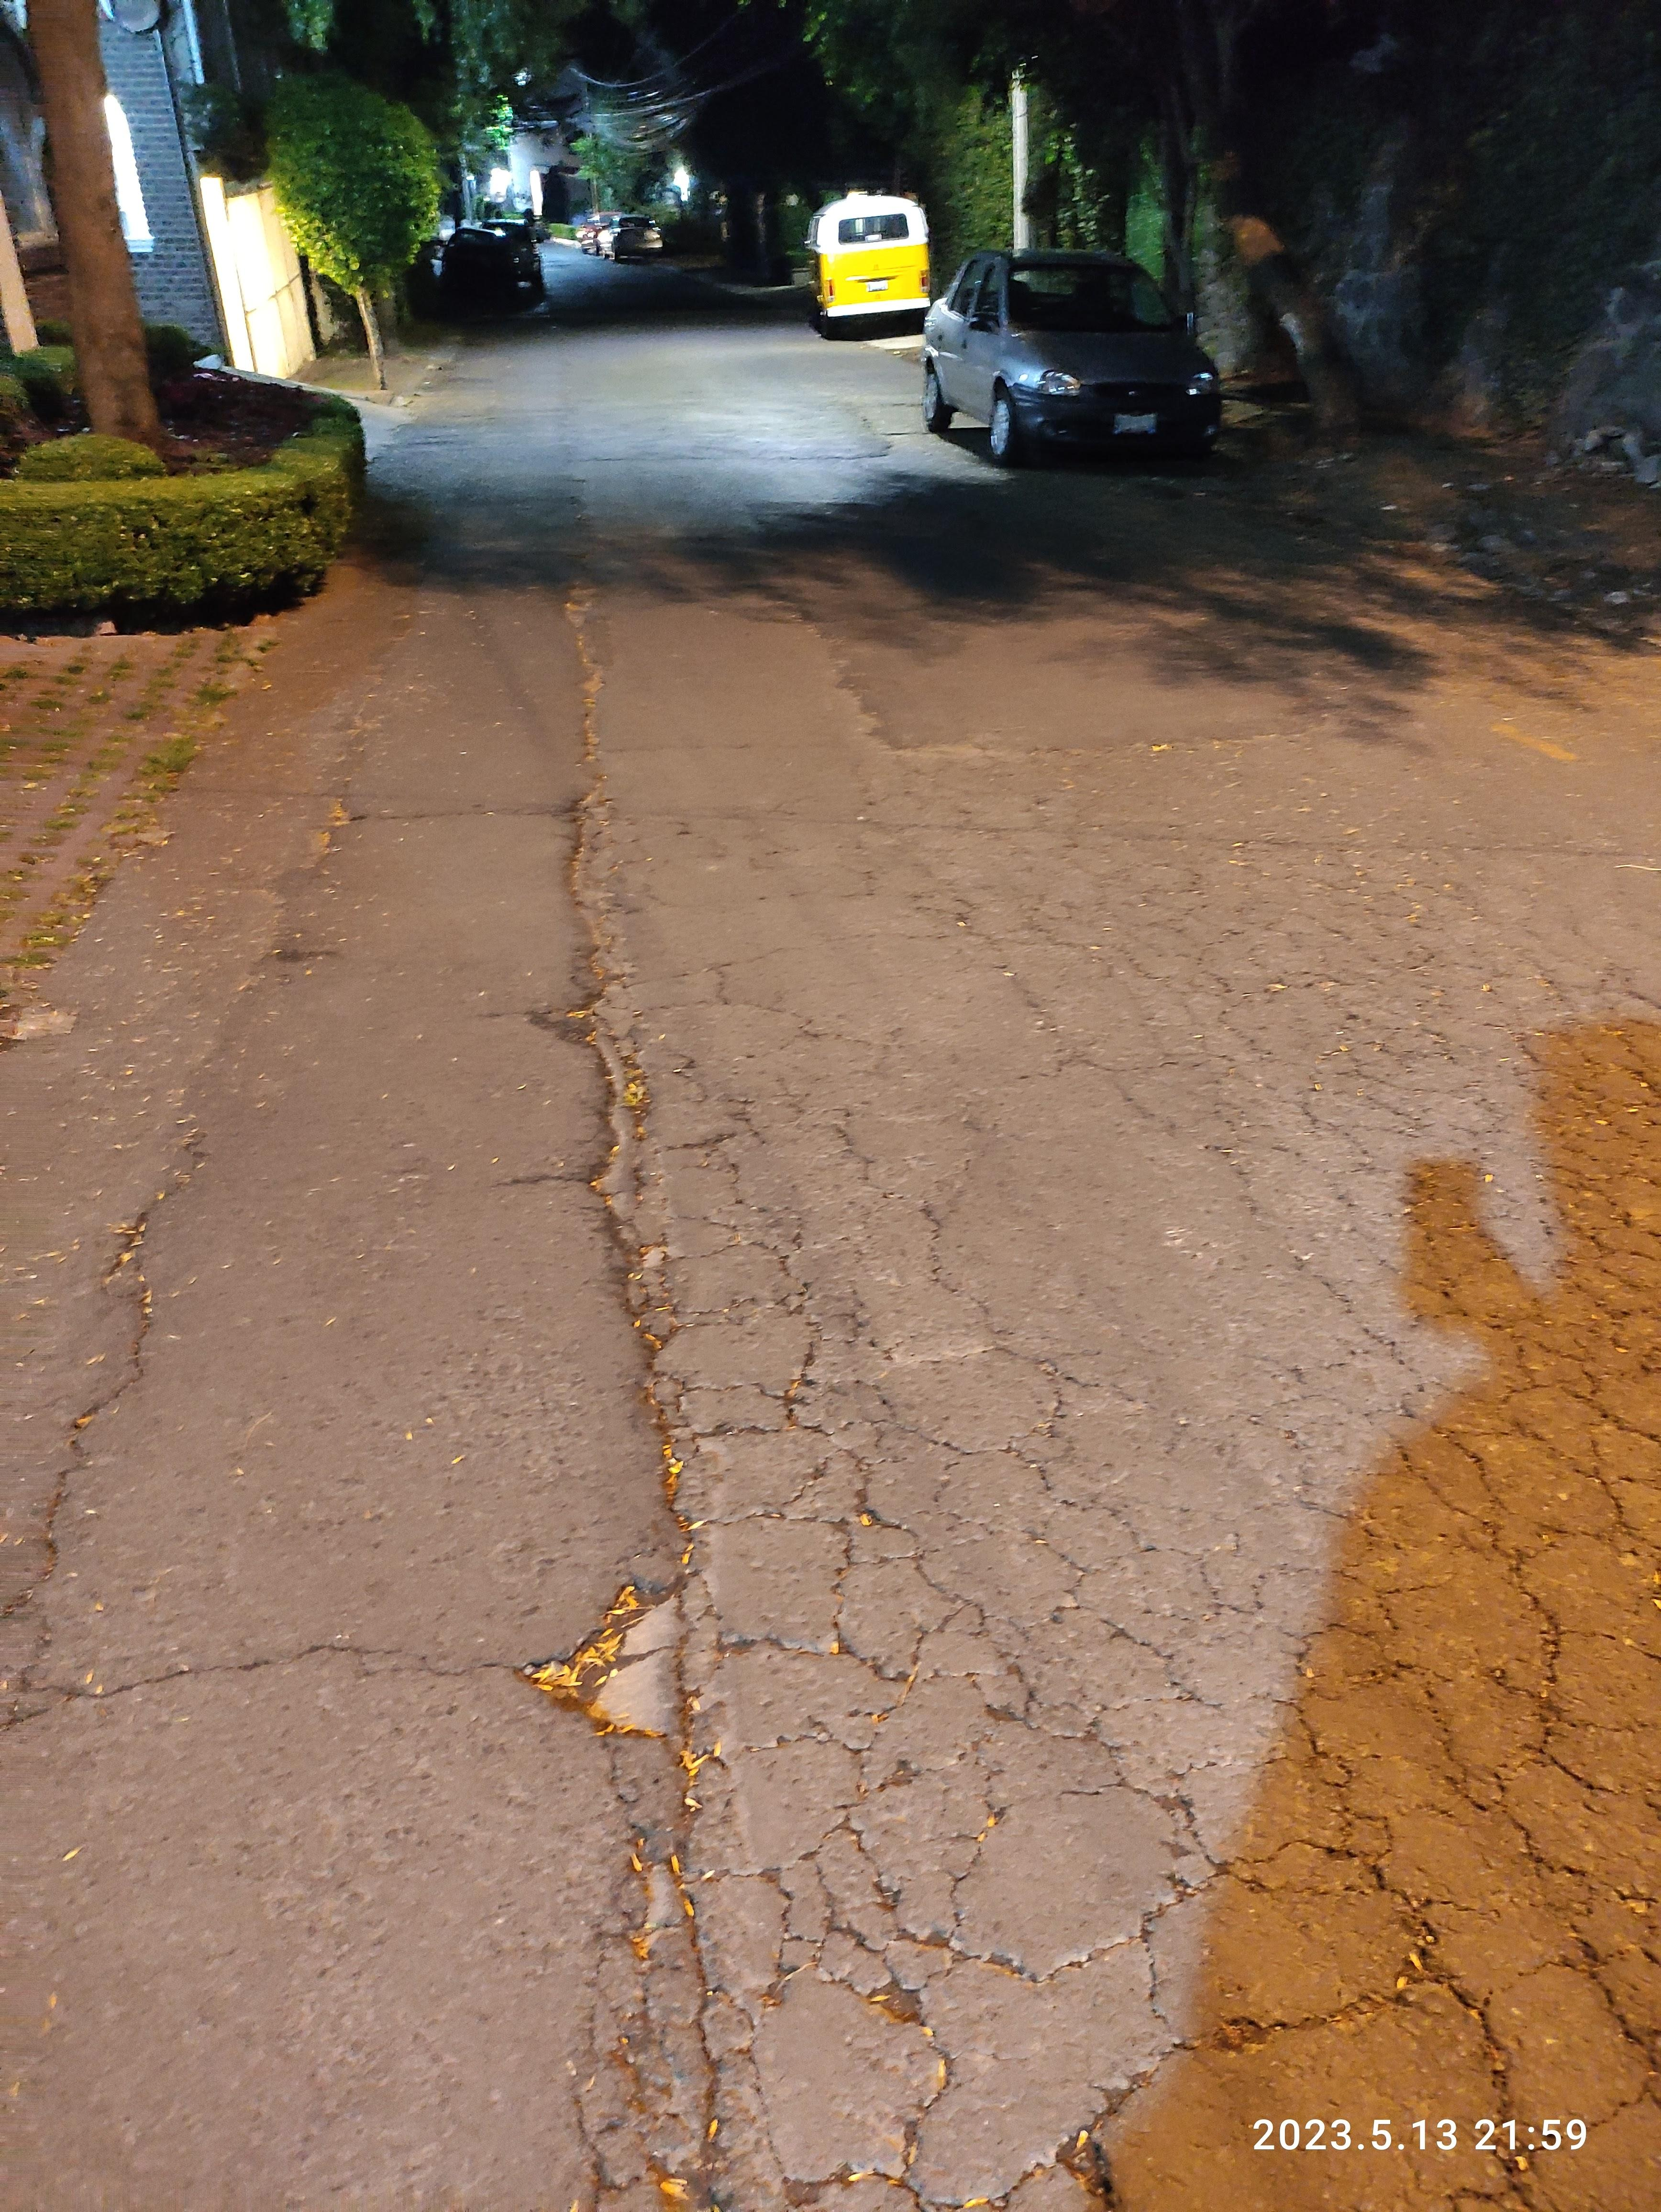alligator-crack: (747, 1130, 1661, 2212), (958, 1493, 1596, 2123), (1054, 815, 1661, 1251), (557, 1718, 820, 2210)
crack: (532, 647, 715, 1560), (30, 1594, 590, 1751)
